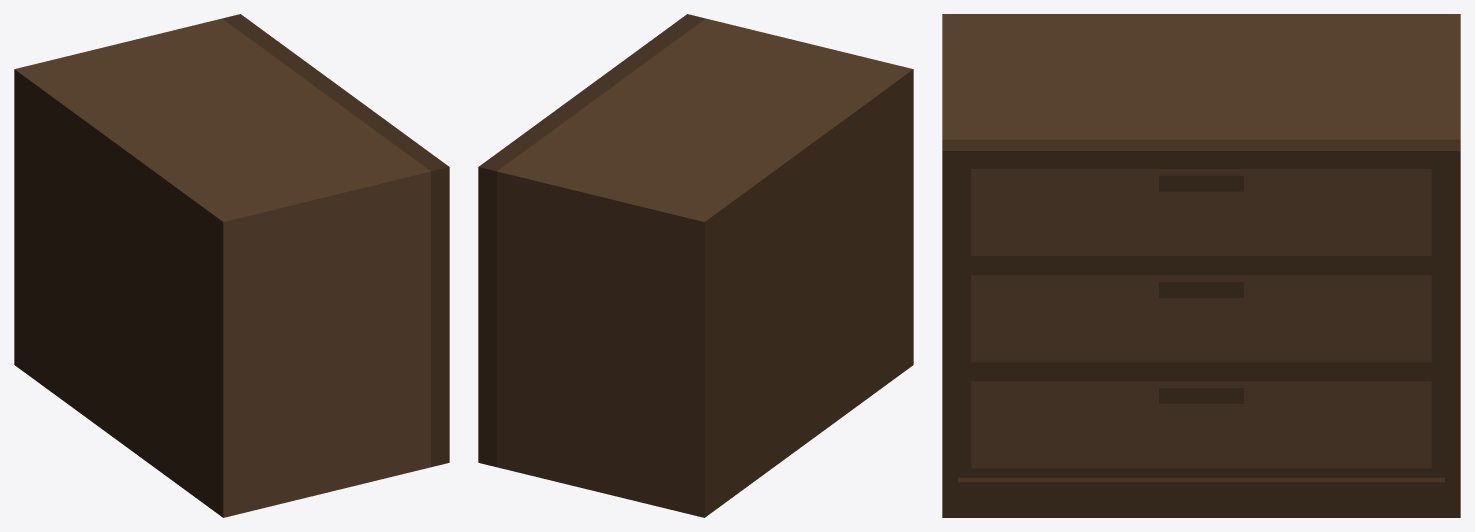
The model's file is drawer.fbx.
3 views of the same model, side by side, from view 1: azimuth 30°, elevation 25°; view 2: azimuth 150°, elevation 25°; view 3: azimuth 270°, elevation 25° (orthographic). The views are drawn at different scales.
Visible parts, largest first — view 1: drawer; view 2: drawer; view 3: drawer, drawer3, drawer2, drawer1.
Boxes of the visible parts, box(x1,y1,x2,y2) form: drawer: box(14, 14, 449, 517); drawer: box(478, 14, 913, 517); drawer: box(942, 14, 1460, 517); drawer3: box(958, 371, 1444, 477); drawer2: box(958, 264, 1444, 371); drawer1: box(958, 162, 1444, 264).
Bounding box in the file's own units: 160 × 200 × 256.
